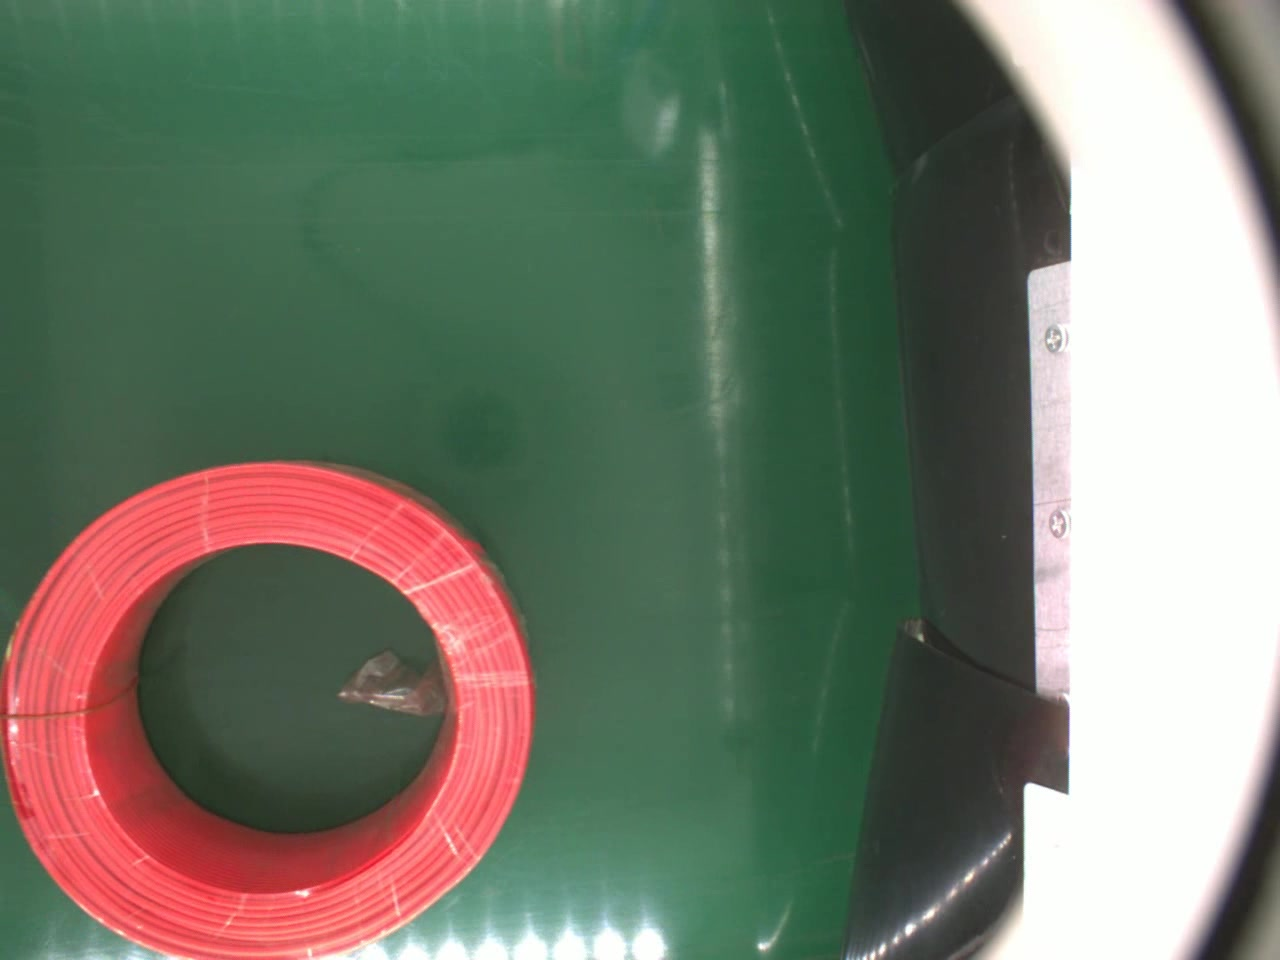red: (0, 457, 538, 960)
